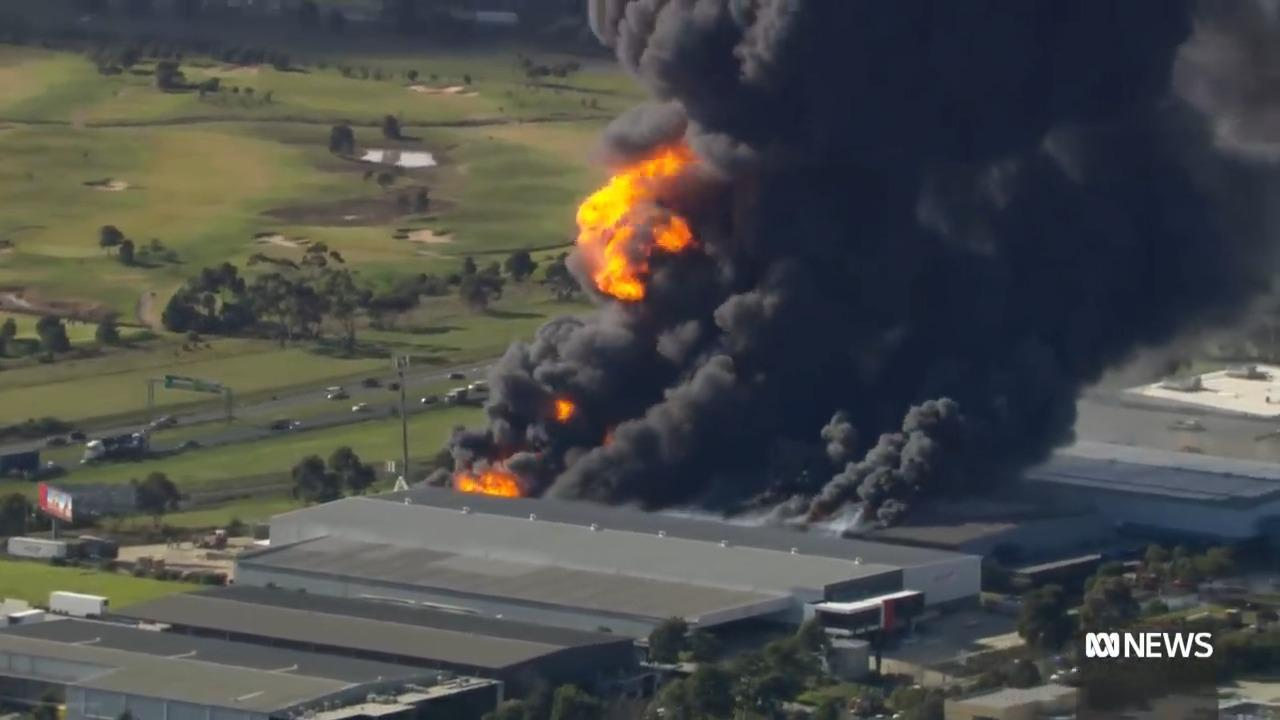fire: (573, 140, 699, 300), (458, 466, 521, 496), (548, 391, 576, 422)
